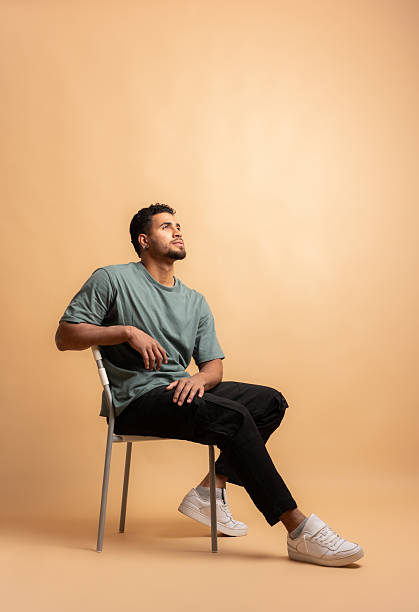distracted: (117, 192, 215, 316)
